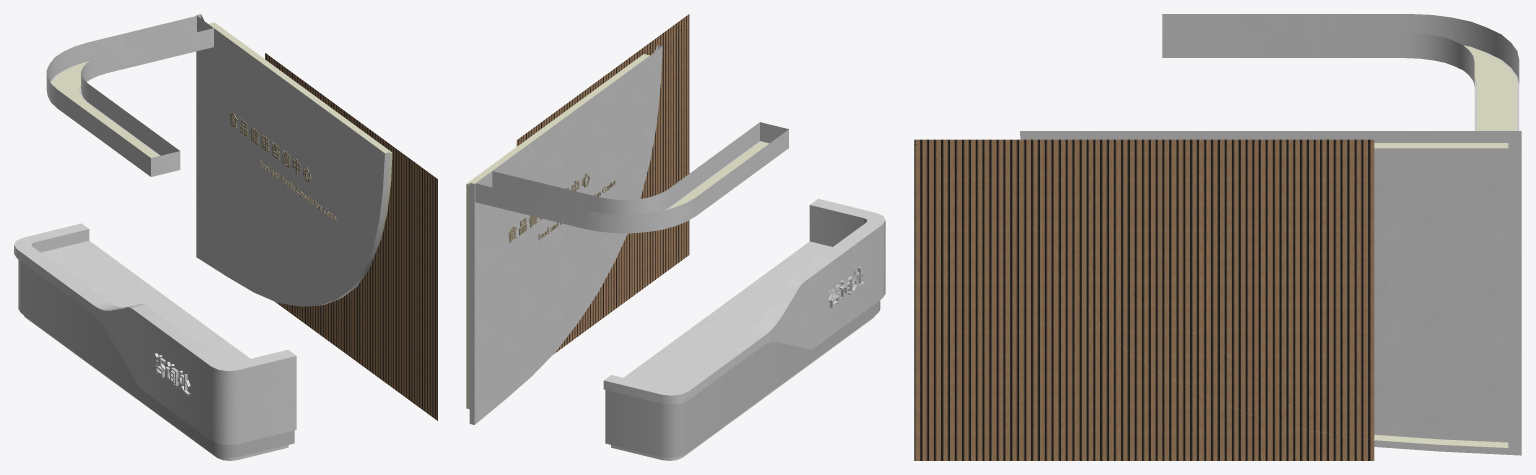
The model's file is SM_咨询室_咨询台.fbx.
The picture shows the model from 3 angles, left to right: view 1: azimuth 30°, elevation 25°; view 2: azimuth 150°, elevation 25°; view 3: azimuth 270°, elevation 25°; orthographic projection. The views are drawn at different scales.
Parts seen in each view (by area): view 1: SM_咨询室_咨询台; view 2: SM_咨询室_咨询台; view 3: SM_咨询室_咨询台.
Part boxes in pixels (x1,y1,x2,y2): SM_咨询室_咨询台: (14, 14, 437, 460); SM_咨询室_咨询台: (466, 14, 885, 460); SM_咨询室_咨询台: (914, 14, 1521, 460).
Bounding box in the file's own units: 2931 × 3180 × 5444.
